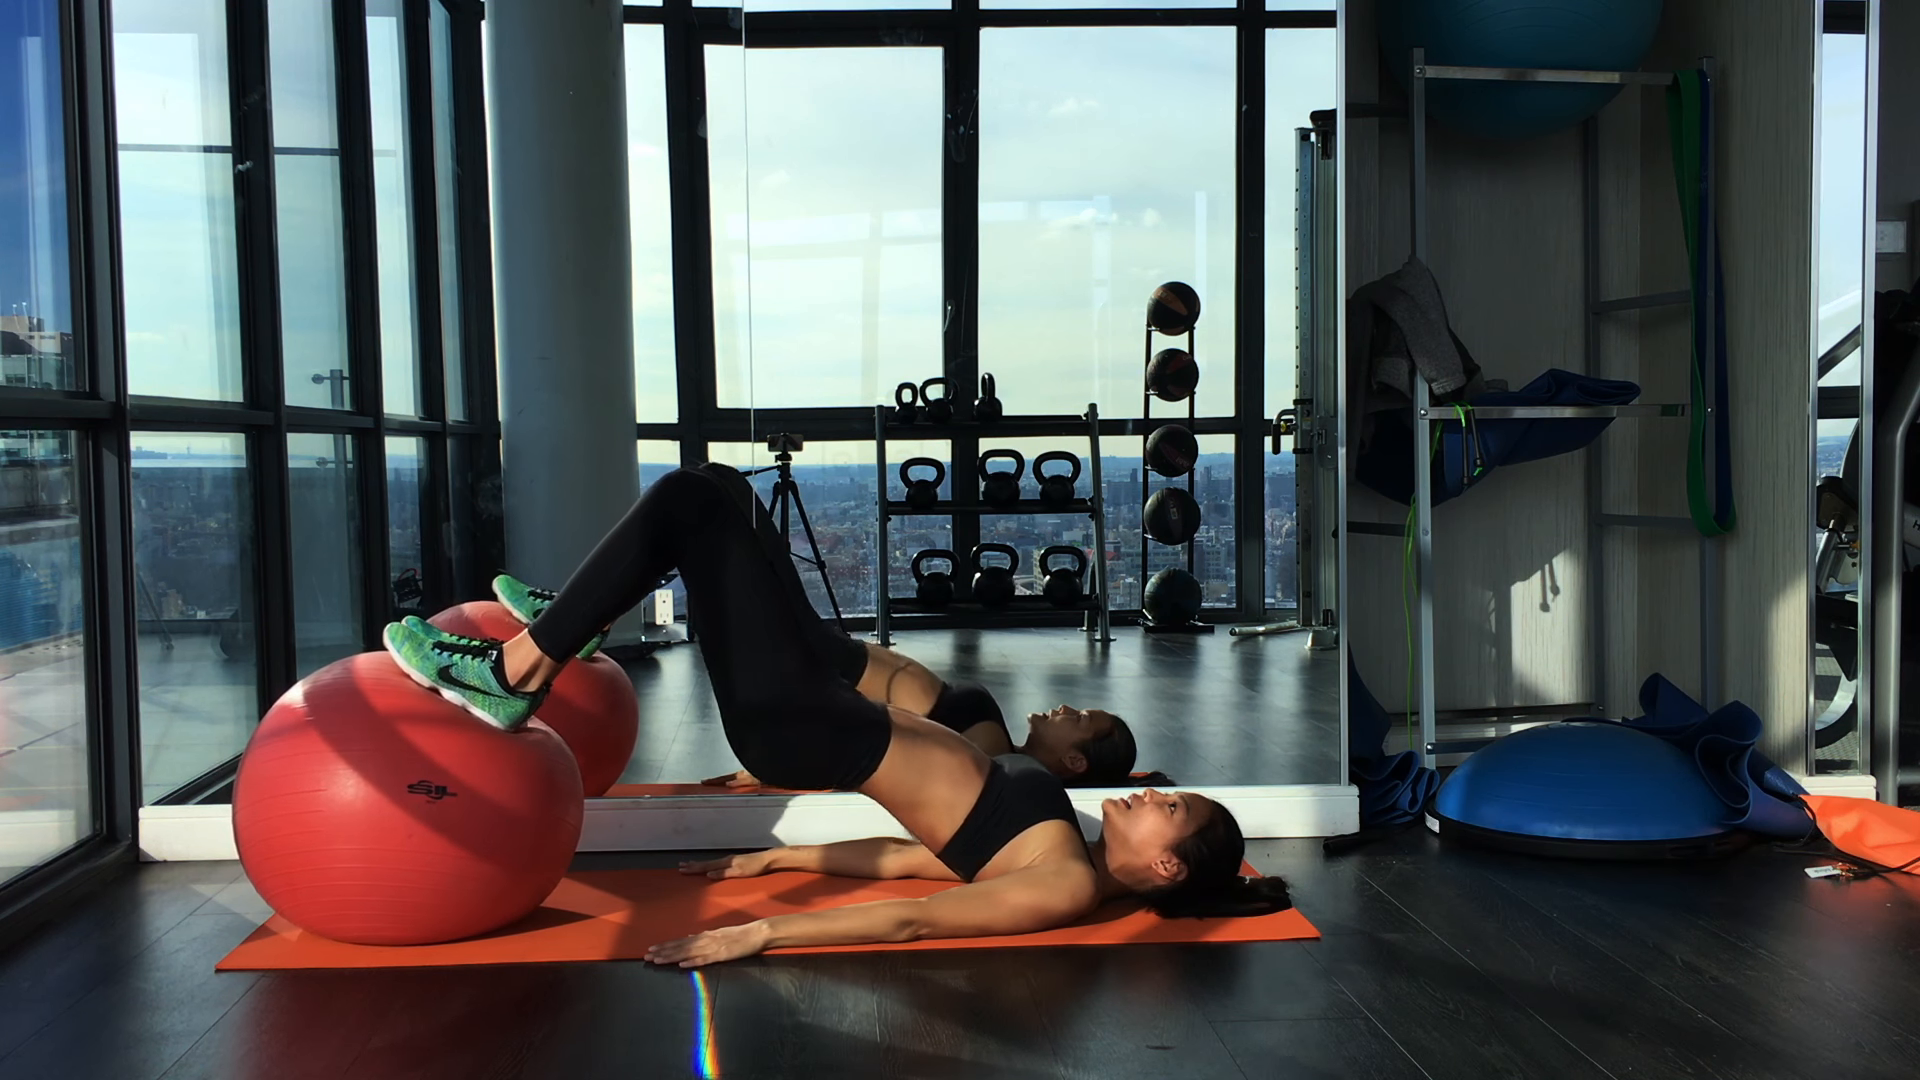yogaball: (219, 644, 592, 951)
